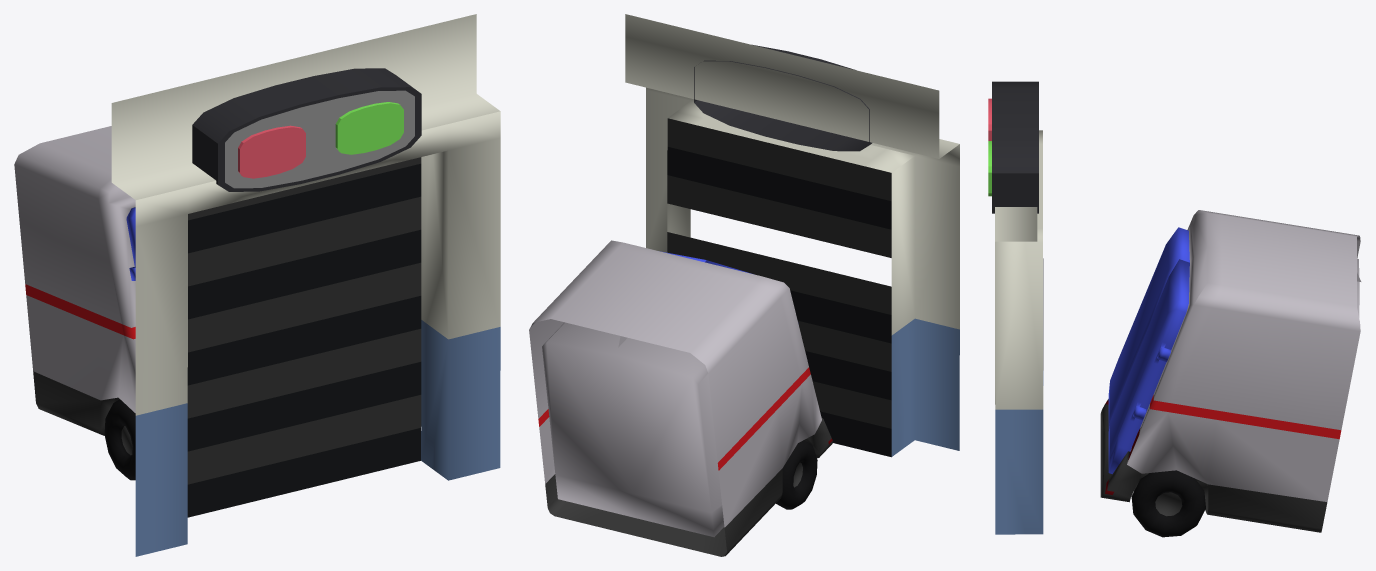
Rendered from Ambulance.fbx.
3 renders of one model, left to right at view 1: azimuth 30°, elevation 25°; view 2: azimuth 150°, elevation 25°; view 3: azimuth 270°, elevation 25°, orthographic. The views are drawn at different scales.
Visible parts, largest first — view 1: Door, GarageDoorWall, Ambulance, LightBoard; view 2: Ambulance, GarageDoorWall, Door, LightBoard; view 3: Ambulance, GarageDoorWall, LightBoard, LeftDoor.001, LeftDoor.
Boxes of the visible parts, box(x1,y1,x2,y2) form: Door: box(187, 157, 421, 517); GarageDoorWall: box(111, 14, 500, 556); Ambulance: box(14, 126, 135, 480); LightBoard: box(192, 68, 421, 191); Ambulance: box(529, 240, 832, 556); GarageDoorWall: box(625, 14, 959, 456); Door: box(667, 118, 891, 457); LightBoard: box(694, 44, 871, 151); Ambulance: box(1100, 210, 1361, 537); GarageDoorWall: box(995, 130, 1043, 534); LightBoard: box(988, 81, 1038, 213); LeftDoor.001: box(1108, 259, 1189, 474); LeftDoor: box(1108, 227, 1189, 430).
Bounding box in the file's own units: 350 × 415 × 351.
